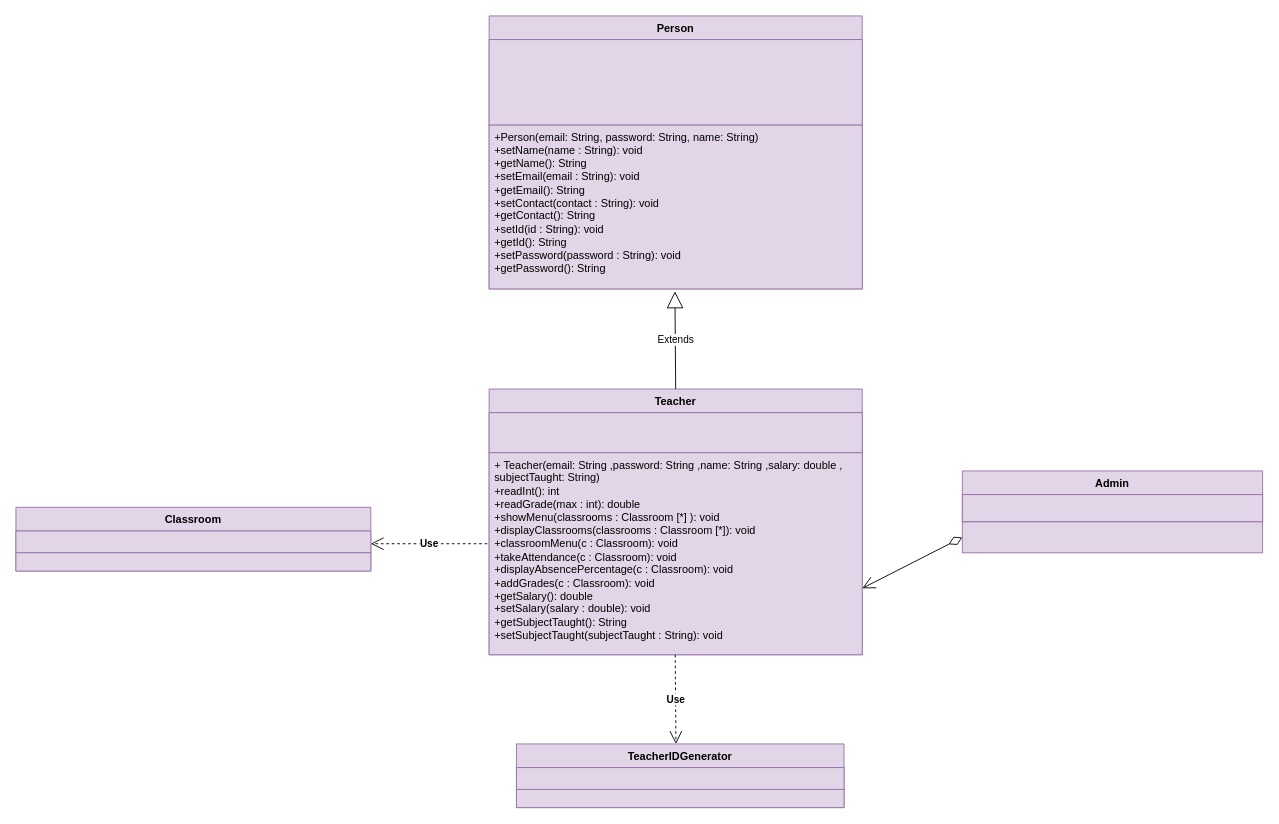
The diagram is 1279 pixels wide and 824 high, and some of its shapes have lost their labels. Each missing label, with the centre of its shape:
"#name : String #email : String #contact : String #id : String #password : String" goes at (x=675, y=82).
"- salary : double - subjectTaught : String" goes at (x=675, y=432).
